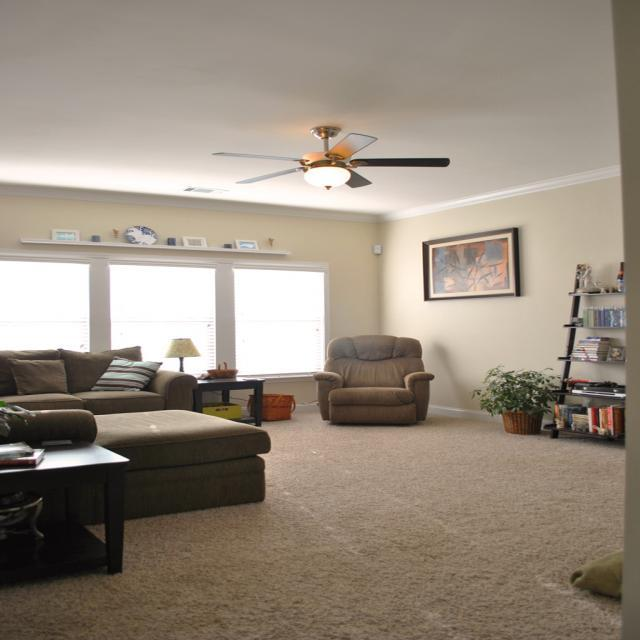fan_off: (209, 122, 443, 194)
